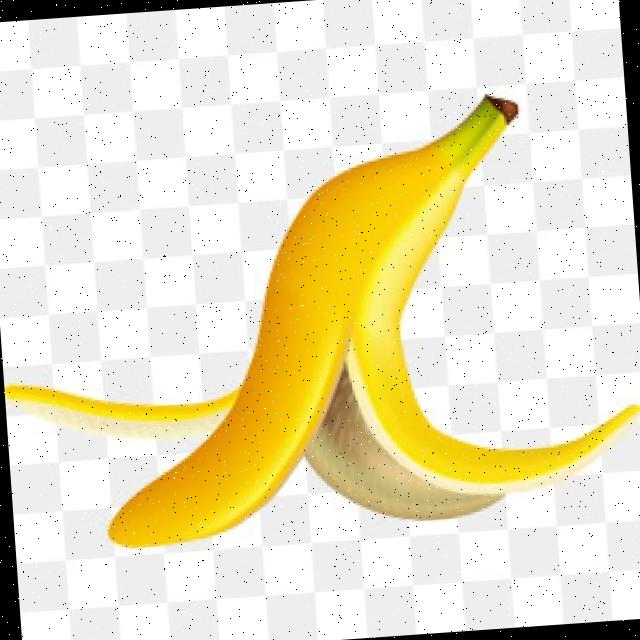banana-peel: (0, 82, 640, 555)
